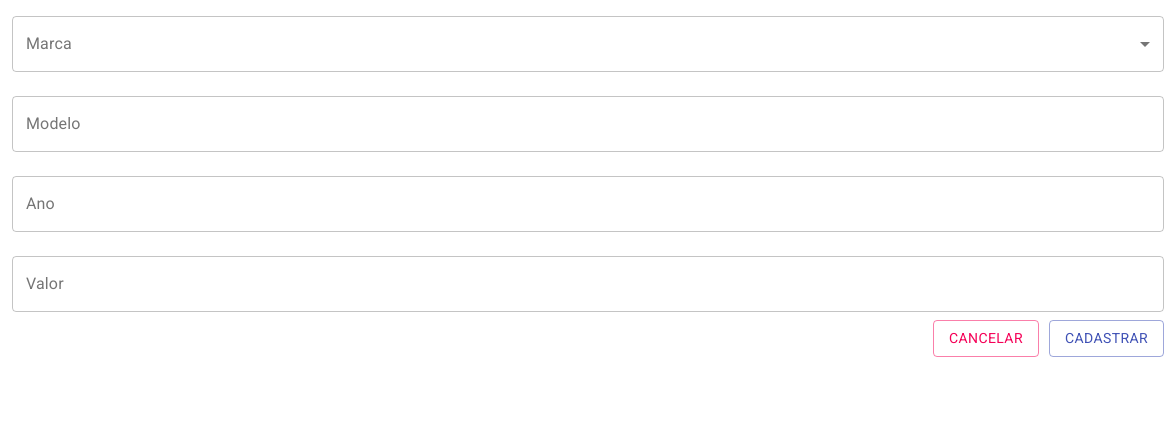
<VehicleRegister /> › Should show error message when input price is invalid
In the field labelled "Valor": (588, 284) [12,256,1164,312], type "20"
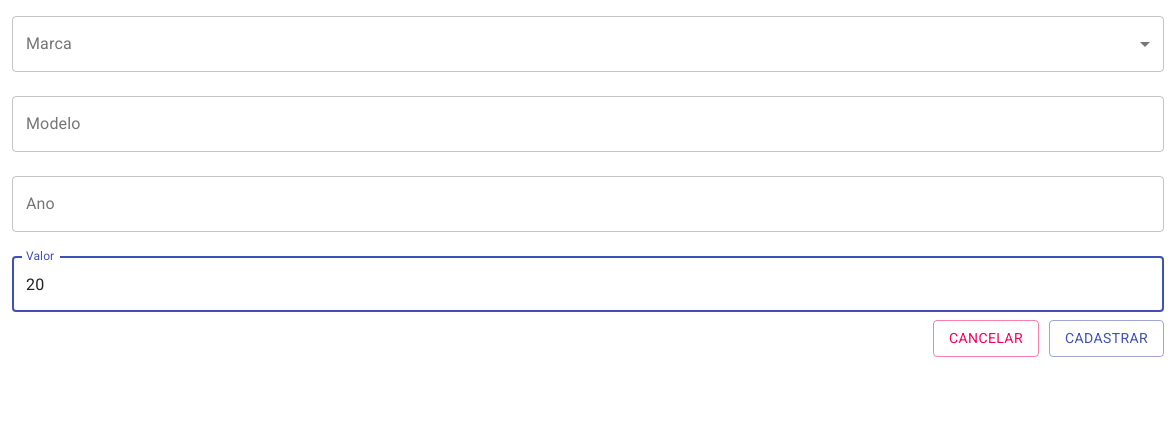
Click the button "Cadastrar": (1106, 338) [1049,320,1164,356]
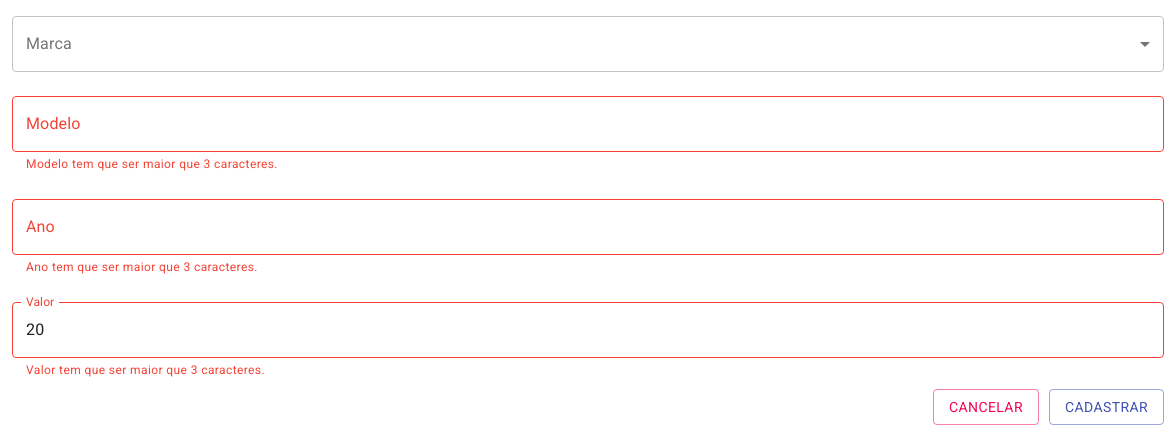
Expected: the text "Valor tem que ser maior que 3 caracteres." is shown, [26,363,265,377]
